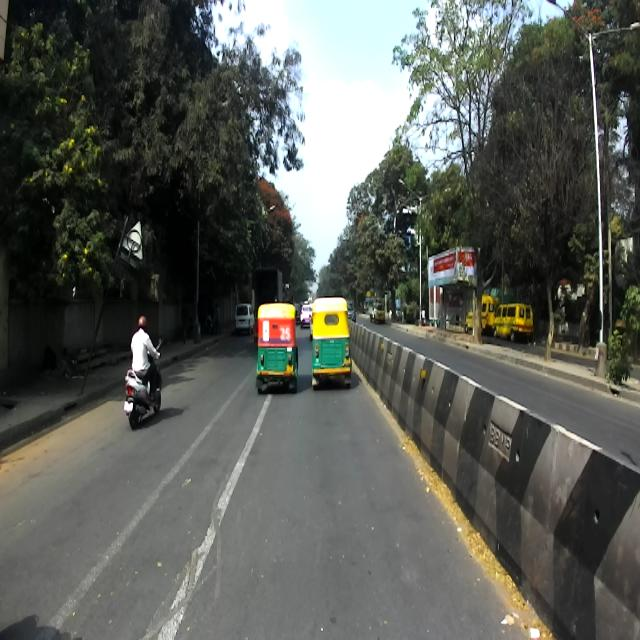auto ahead at: (254, 296, 298, 409), (310, 303, 351, 385)
motorcycle ahead at: (124, 364, 166, 432)
